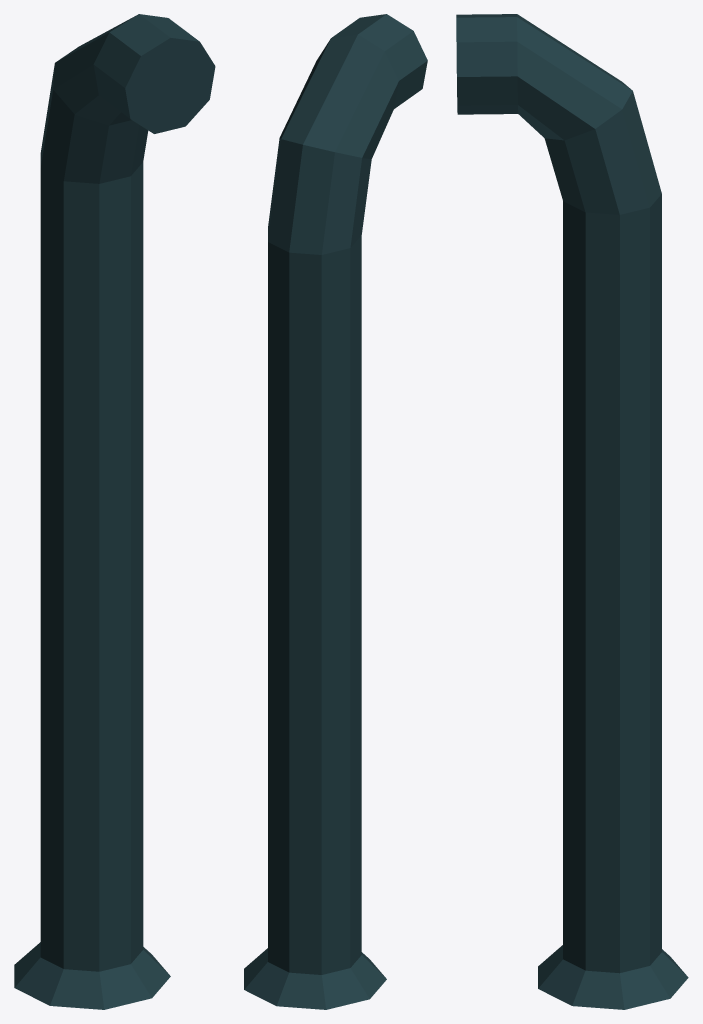
File: PipeC_Hangar.fbx
The picture shows the model from 3 angles, left to right: view 1: azimuth 30°, elevation 25°; view 2: azimuth 150°, elevation 25°; view 3: azimuth 270°, elevation 25°; orthographic projection. The views are drawn at different scales.
Parts seen in each view (by area): view 1: Pipe C; view 2: Pipe C; view 3: Pipe C.
Part boxes in pixels (x1,y1,x2,y2): Pipe C: (14,14,215,1009); Pipe C: (244,14,427,1009); Pipe C: (456,14,688,1009).
Size of the model in its own units: 166 by 1151 by 252.
